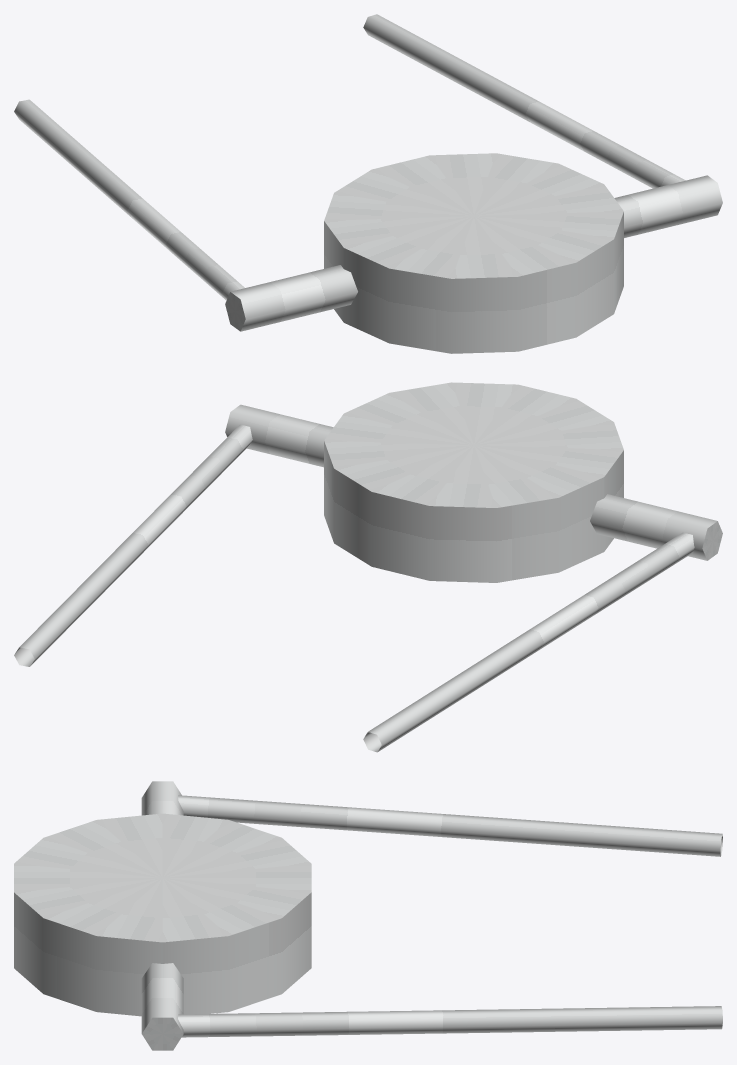
File: nycsignalarm_regular6_c0.obj
The picture shows the model from 3 angles, top to bottom: view 1: azimuth 30°, elevation 25°; view 2: azimuth 150°, elevation 25°; view 3: azimuth 270°, elevation 25°; orthographic projection.
Visible parts, largest first — view 1: nycsignalarm_regular6_c0; view 2: nycsignalarm_regular6_c0; view 3: nycsignalarm_regular6_c0.
Part boxes in pixels (x1,y1,x2,y2): nycsignalarm_regular6_c0: [14, 14, 722, 353]; nycsignalarm_regular6_c0: [14, 382, 722, 752]; nycsignalarm_regular6_c0: [14, 781, 722, 1050].
Bounding box in the file's own units: 1.5 × 0.225 × 1.9.
